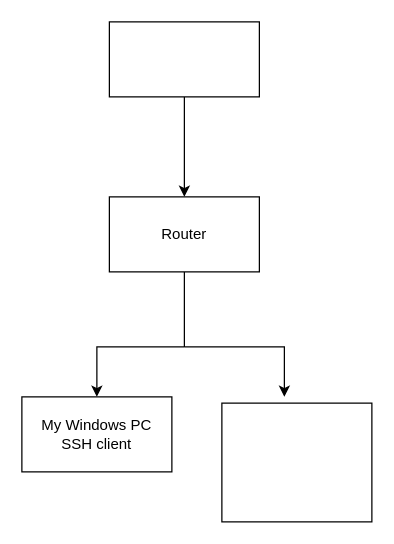
Some shapes in this 394 by 544 pixel diagram are drawn without their labels. The shapes that lost their labels are listed below. From the top down, each one's box as (x1, y1, x2, y2) in pixels, then its label:
(108, 21, 259, 97): Internet
(221, 402, 372, 522): Ubunto Server (old laptop) IPv4: 192.168.1.50 SSH Samba
